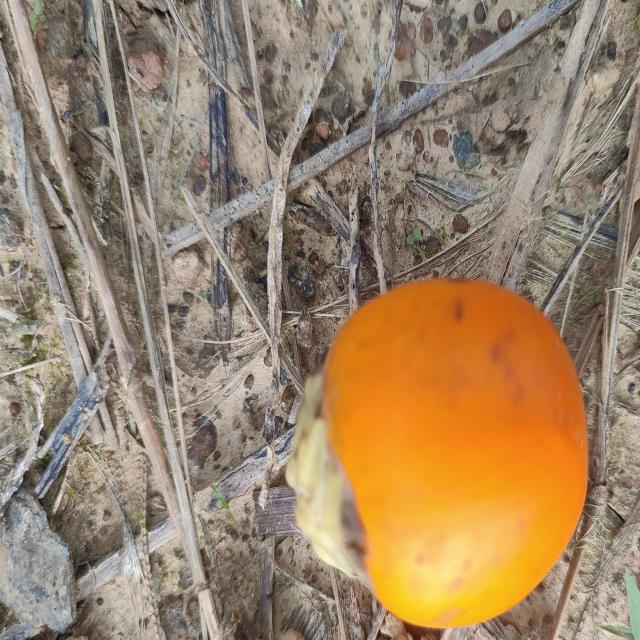good: (285, 278, 591, 633)
